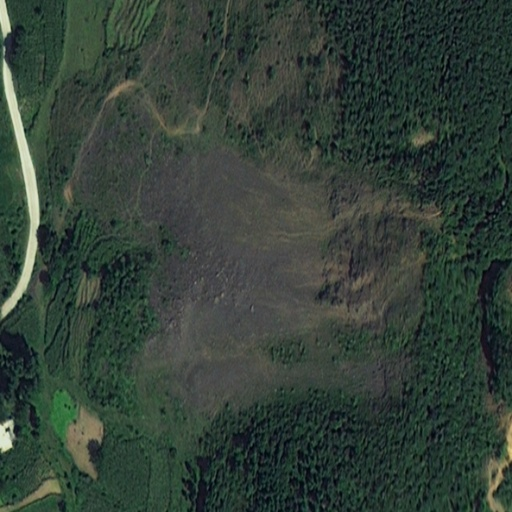landslide: (103, 88, 438, 418)
